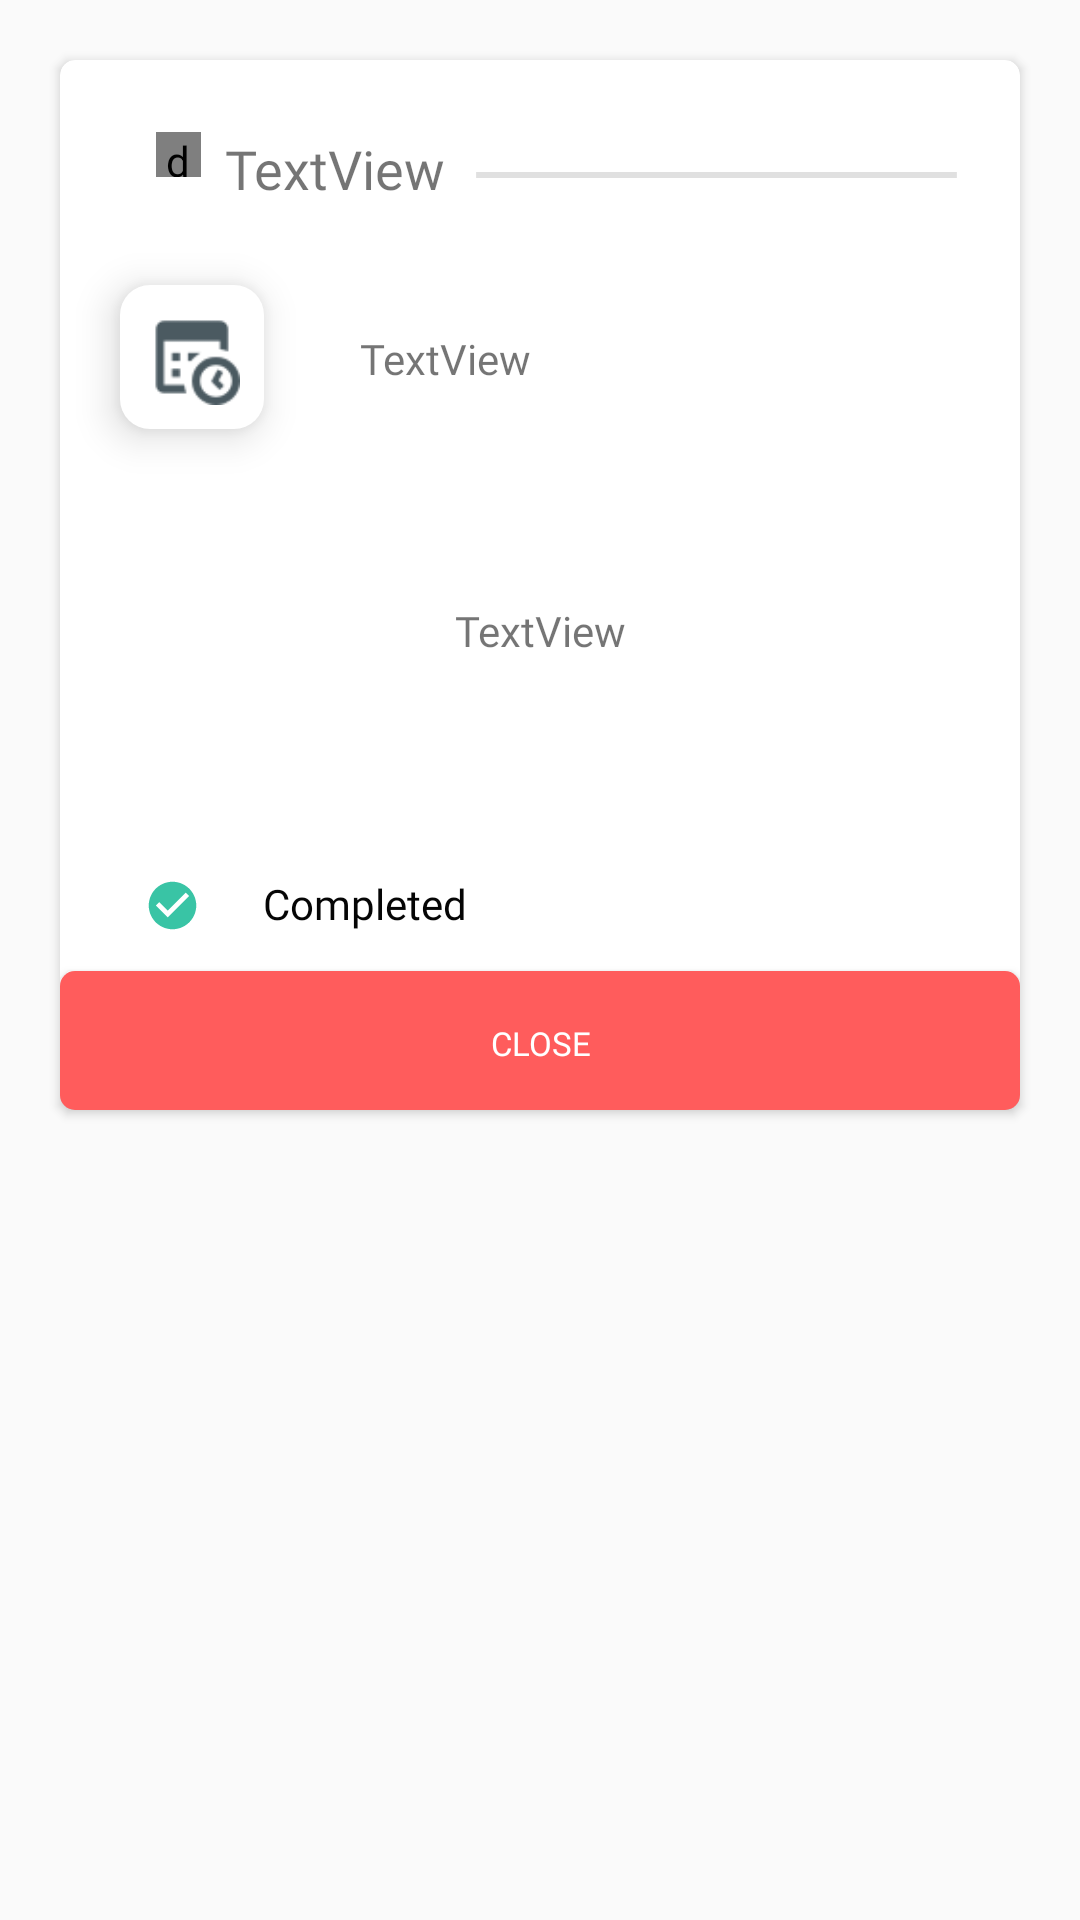

Screen size 1080×1920. Icon name, then its center in pixels as [x,y]:
check circle: [172,905]
timesheetcopy: [197,362]
